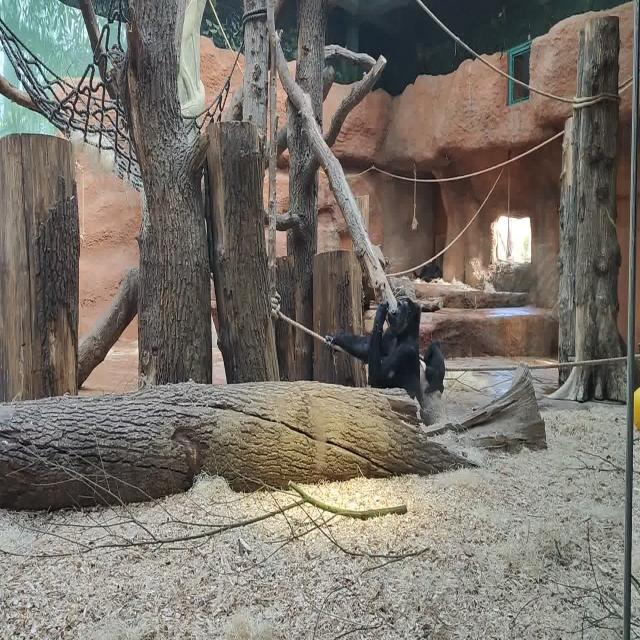monkey: (325, 297, 422, 407), (424, 341, 445, 394)
